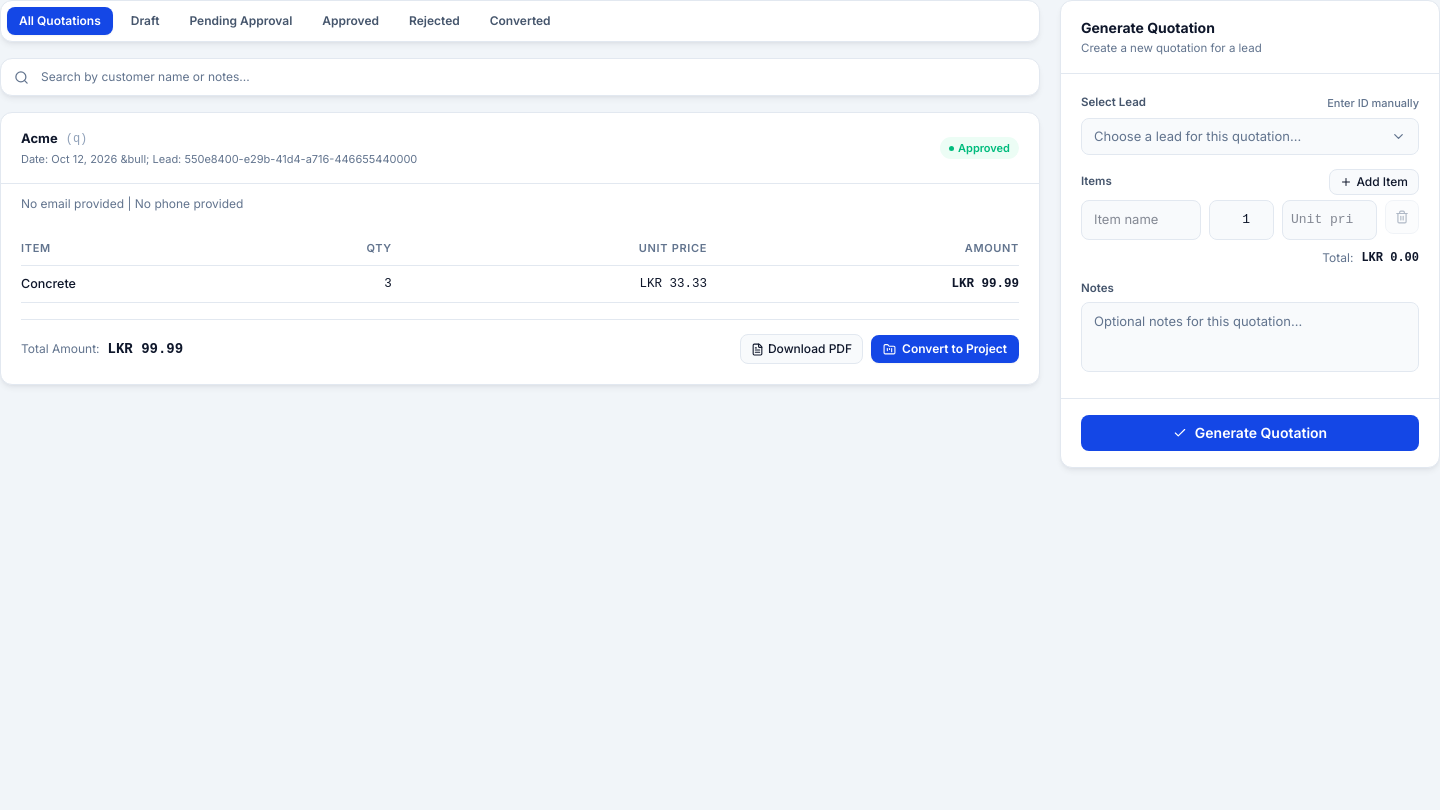
Scenario: Quotation dashboard interactions › converts to a real project and exposes its verified ID without fabricated routes
This screenshot has width=1440, height=810.
Expected: the text "Acme" is shown, [21,130,58,146]
Click the button with aria-label "Convert quotation q to project". click: (945, 349)
box: [871,335,1019,363]
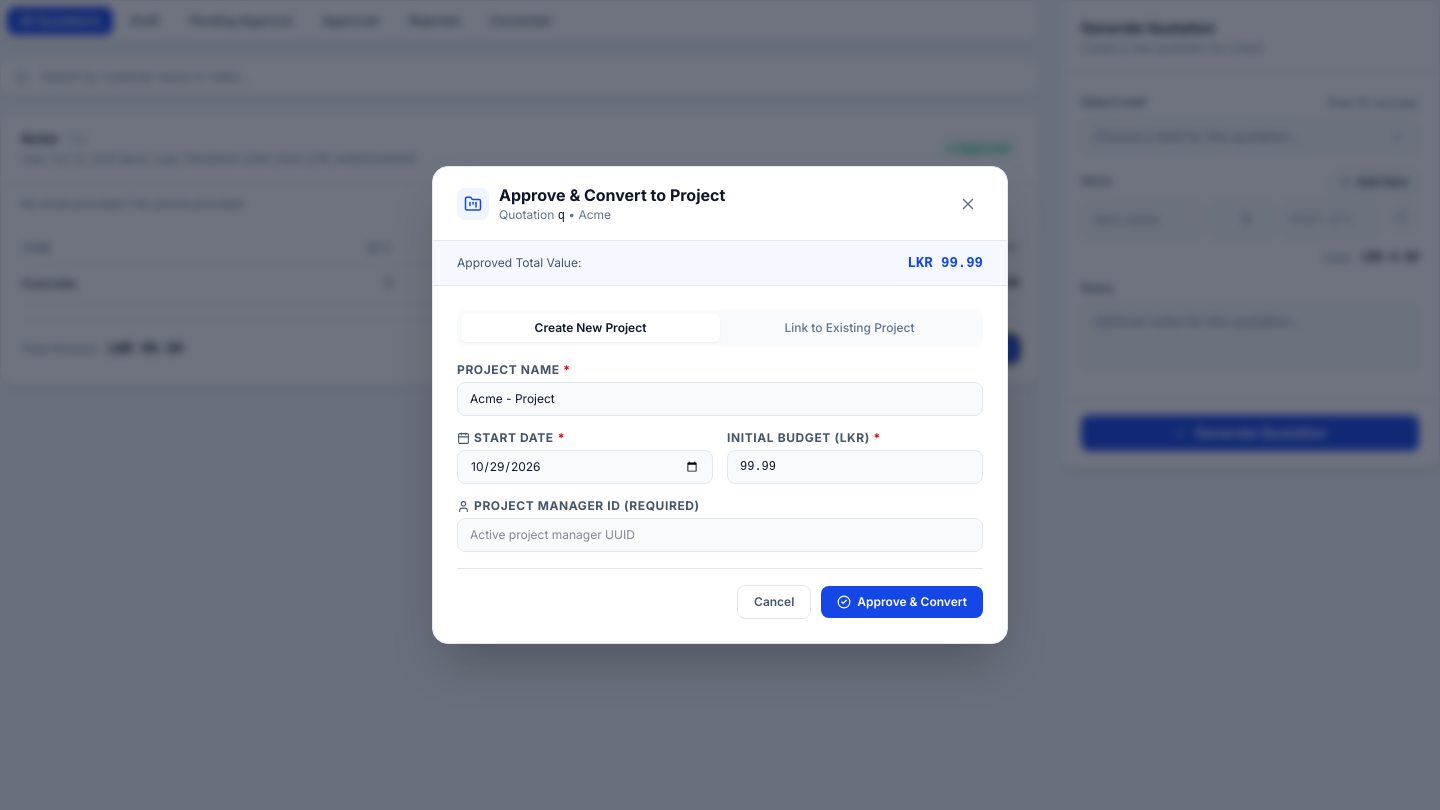
Type "550e8400-e29b-41d4-a716-446655440000" into the field named "Project manager ID". click: (720, 535)
box: [457,518,983,552]
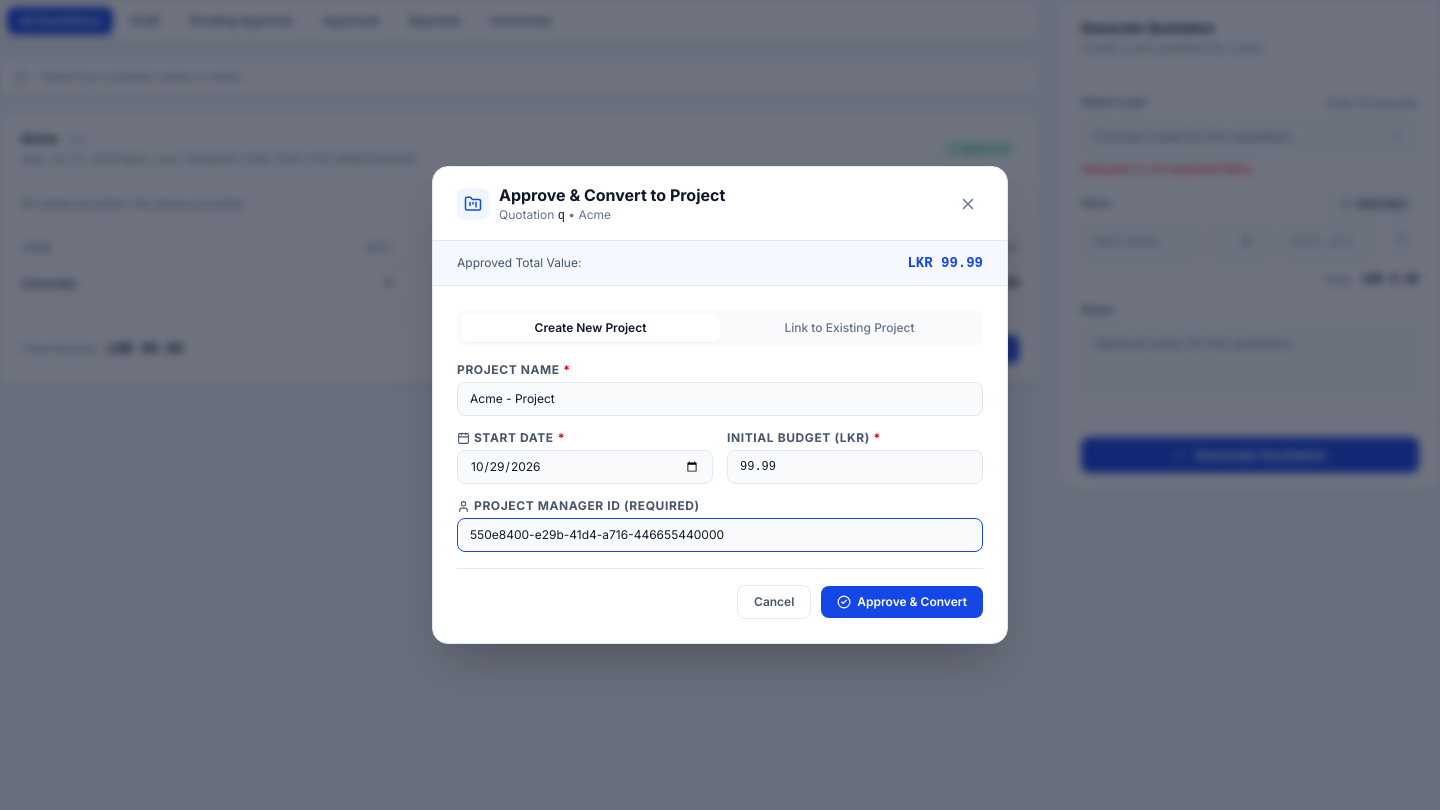
Submit the form, box [433,286,1007,643]
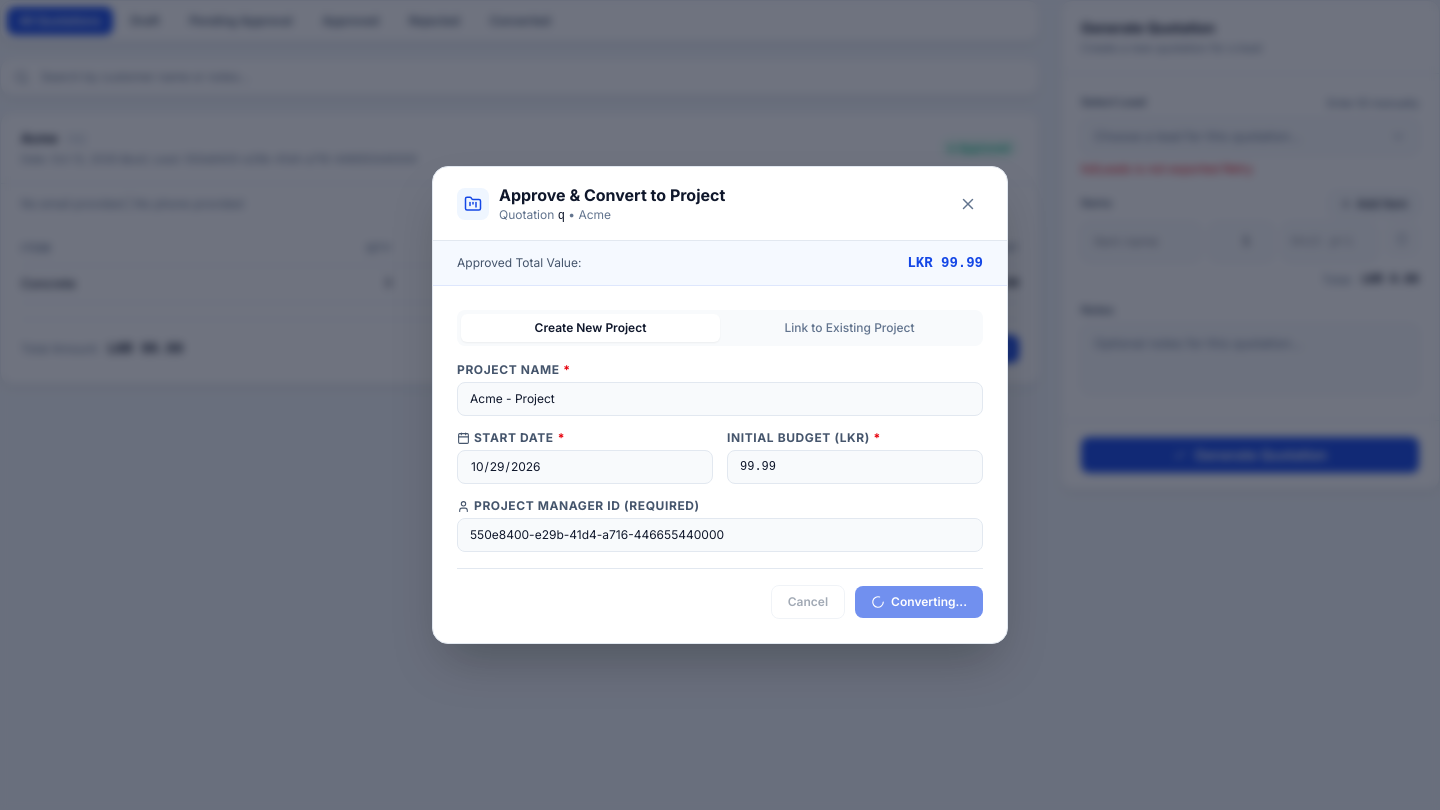
Submit the form, box [433,286,1007,643]
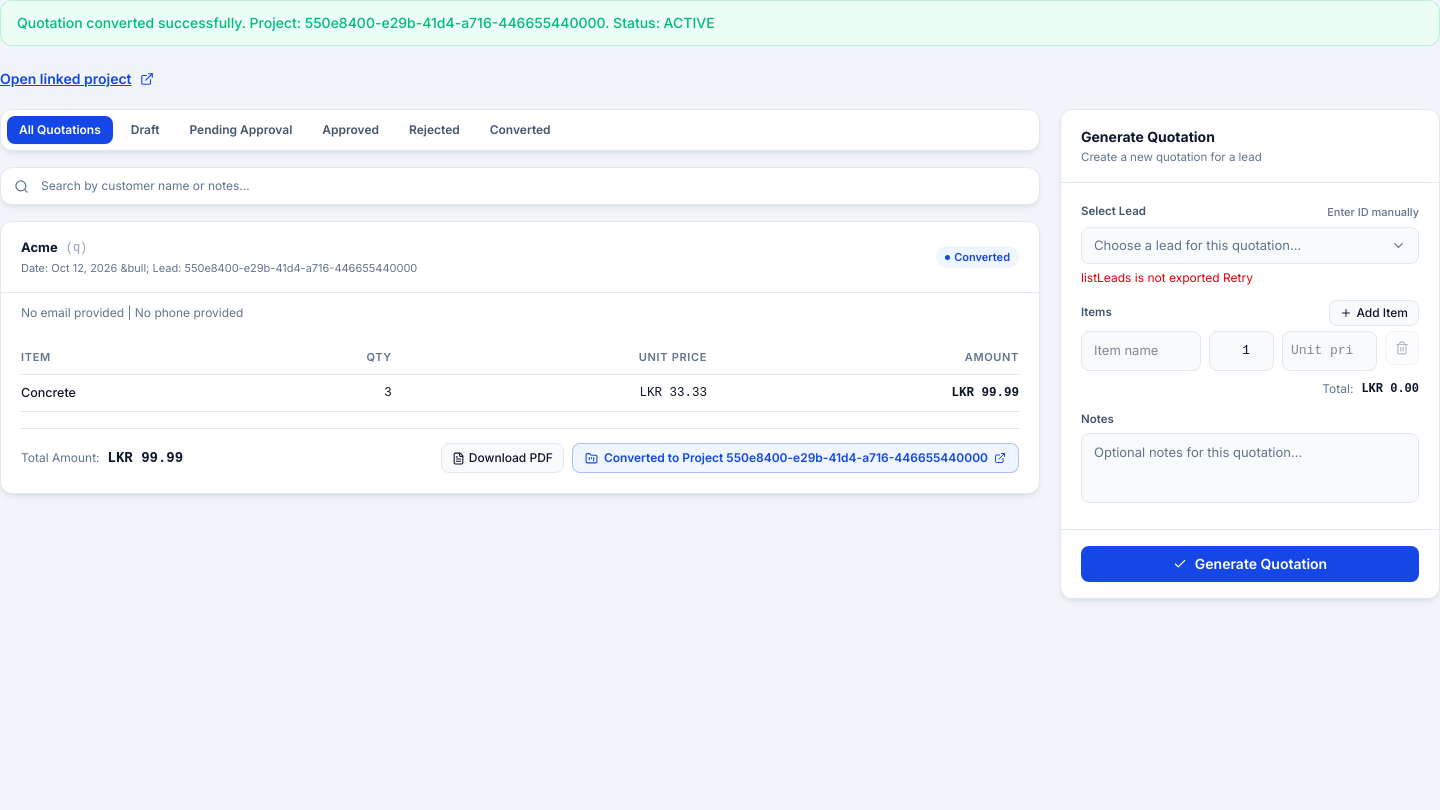
Expected: the link "Converted to Project 550e8400-e29b-41d4-a716-446655440000" is shown, [572,443,1019,473]
